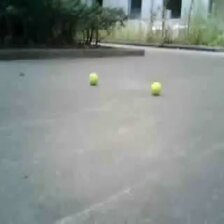tennis: (87, 72, 98, 85), (150, 82, 160, 94)
